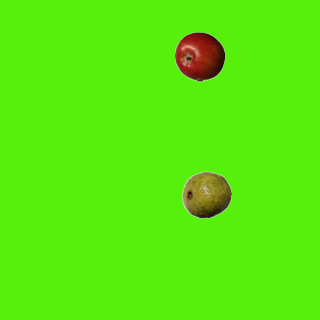Apple Braeburn: (174, 31, 224, 81)
Guava: (181, 169, 231, 219)
